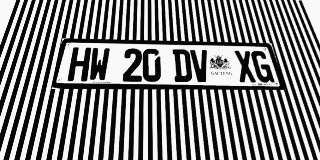0: (142, 49, 161, 82)
2: (123, 48, 142, 82)
D: (172, 49, 193, 82)
G: (250, 51, 275, 82)
H: (67, 47, 91, 81)
V: (190, 50, 211, 82)
W: (88, 48, 110, 81)
X: (233, 50, 257, 82)
